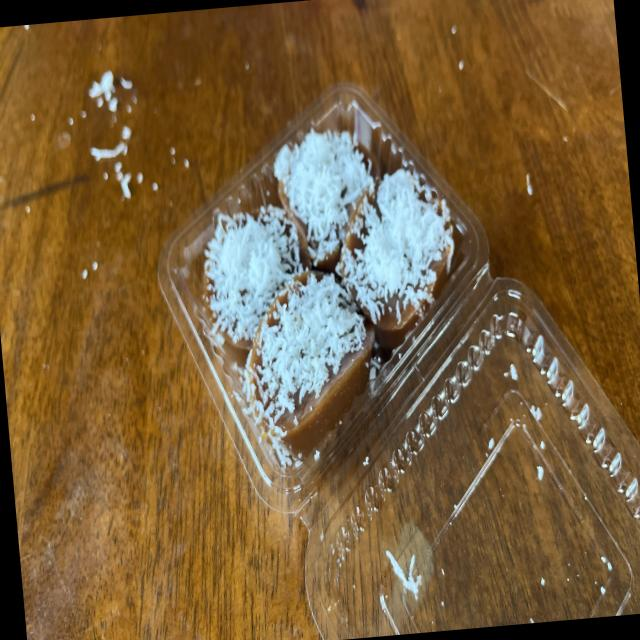Kuih lompang: (246, 271, 374, 454), (337, 168, 454, 348), (203, 206, 301, 367), (274, 129, 374, 267)
